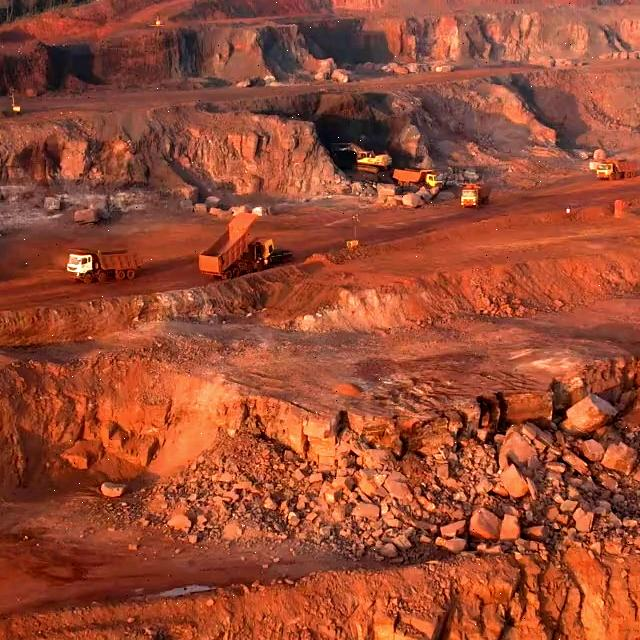Dumper truck: (199, 239, 278, 275), (69, 250, 134, 277), (595, 158, 640, 177), (462, 182, 492, 207)
Excavator: (328, 138, 391, 184)
